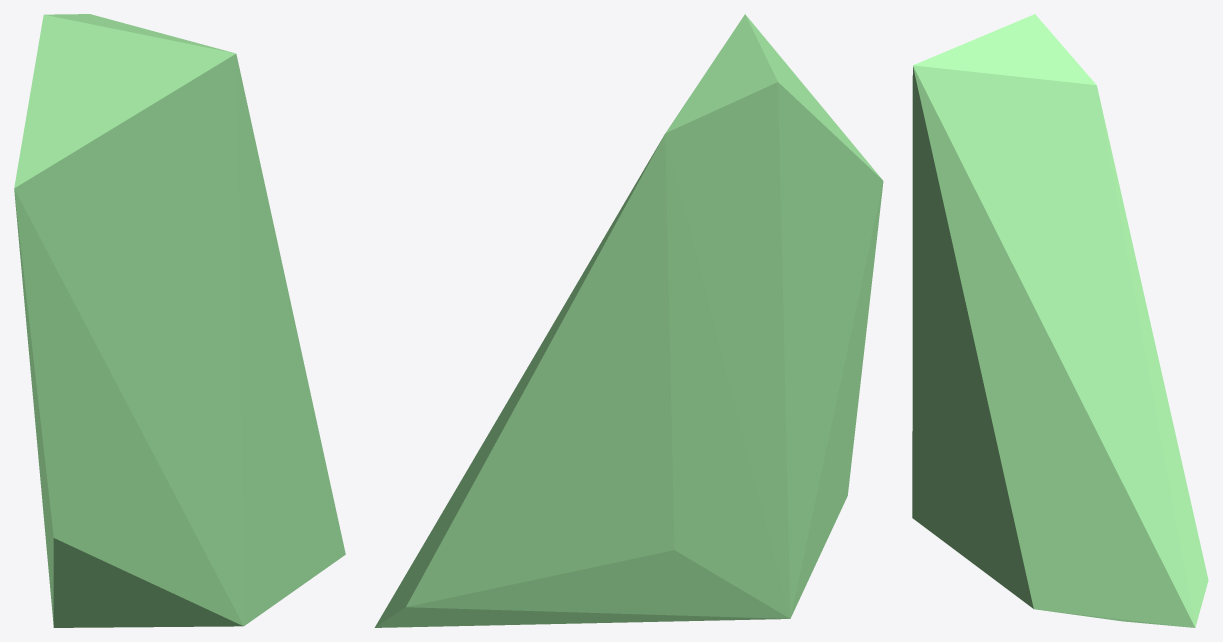
Rendered from xarm7_with_gripper_robot_base_coll_19.dae.
3 renders of one model, left to right at view 1: azimuth 30°, elevation 25°; view 2: azimuth 150°, elevation 25°; view 3: azimuth 270°, elevation 25°, orthographic. The views are drawn at different scales.
Parts seen in each view (by area): view 1: Node_000001B89B5E36E0; view 2: Node_000001B89B5E36E0; view 3: Node_000001B89B5E36E0.
Boxes of the visible parts, x1,y1,x2,y2 form: Node_000001B89B5E36E0: (14,14,345,627); Node_000001B89B5E36E0: (374,14,883,627); Node_000001B89B5E36E0: (912,14,1208,627).
Bounding box in the file's own units: 0.0386 × 0.0547 × 0.0302.
